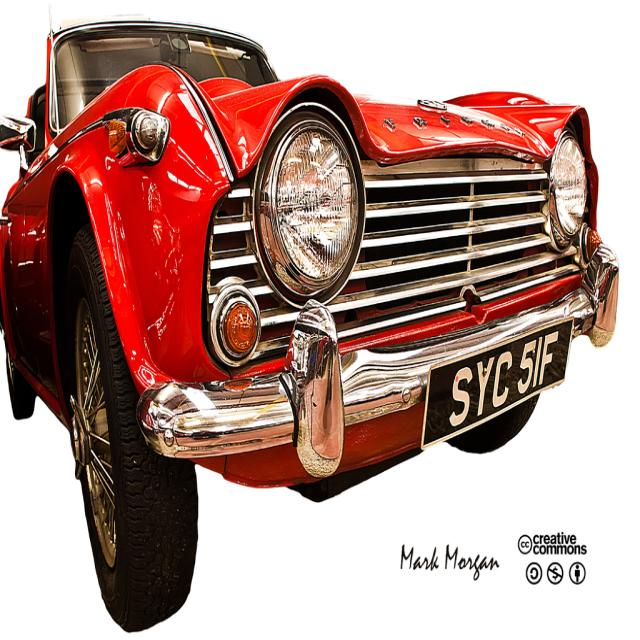car: (0, 15, 621, 637)
